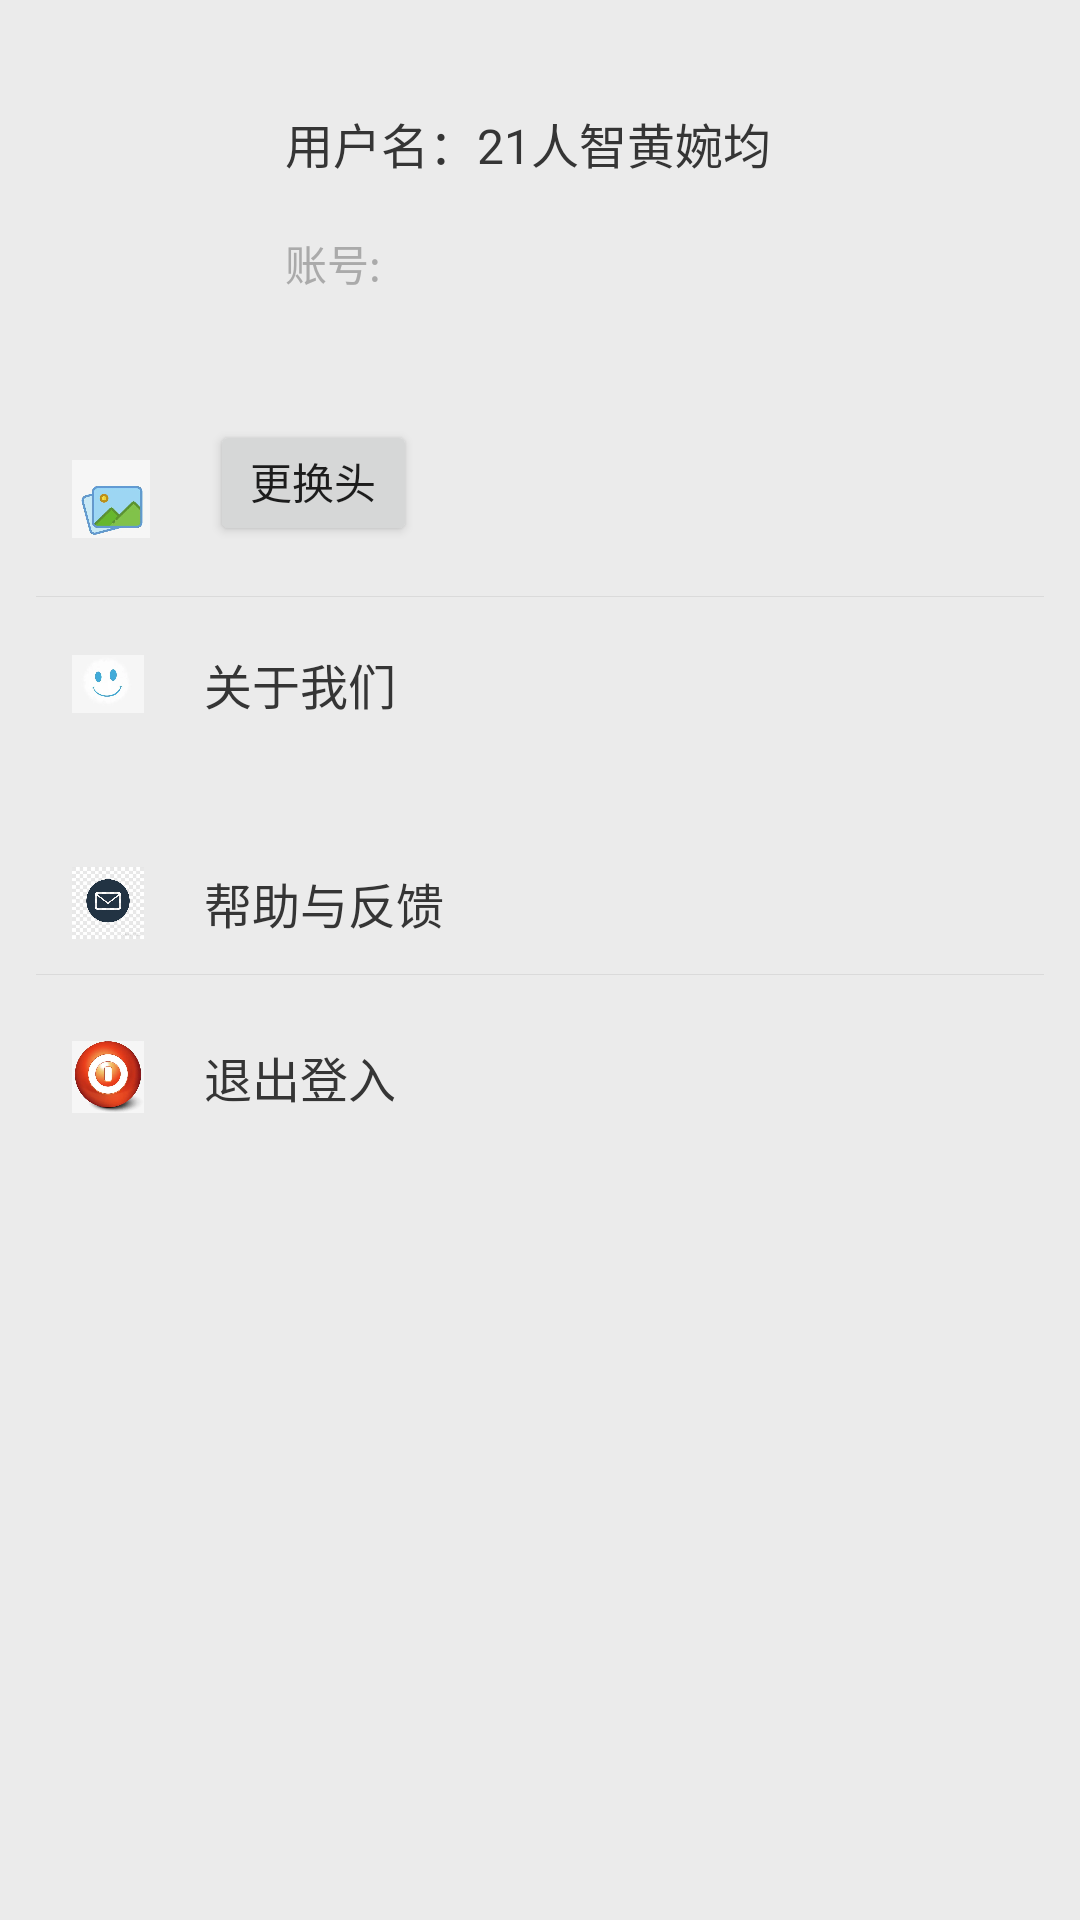

Screen size 1080w x 1920h. Icon name, then its box in pixels as (x1, y1, x2, y2):
aboutme: (72, 655, 144, 713)
xiangce: (81, 486, 143, 535)
